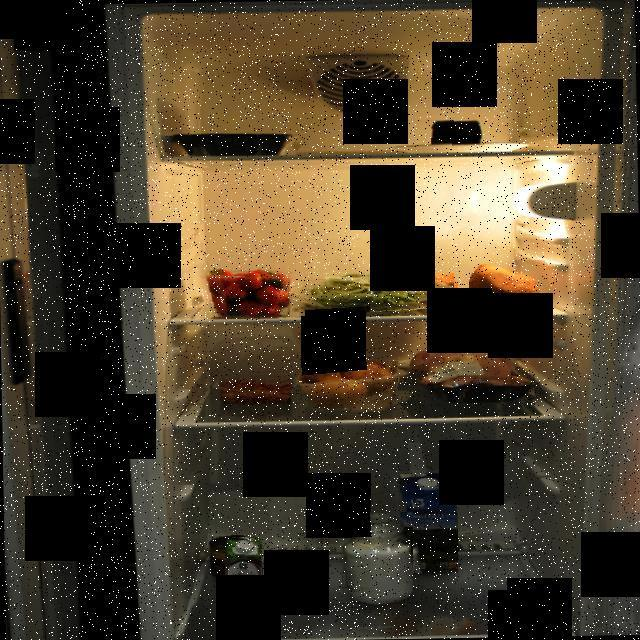beans: (286, 273, 454, 317)
cheese: (431, 115, 486, 149)
chicken: (399, 345, 535, 404)
corn: (208, 536, 256, 580)
cream: (225, 537, 264, 607)
milk: (395, 469, 458, 573)
potato: (296, 361, 398, 408)
shrimp: (217, 374, 293, 404)
strawberry: (203, 266, 292, 318)
sugar: (339, 512, 414, 608)
sweet potato: (470, 260, 546, 312), (416, 268, 458, 298)
